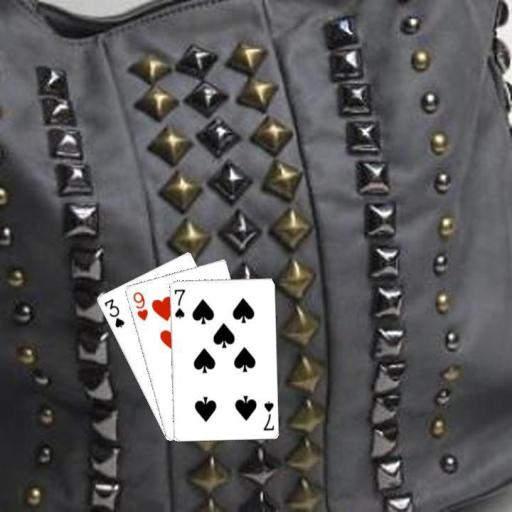card-corner: (101, 296, 126, 329), (130, 288, 150, 322), (171, 286, 186, 320), (260, 398, 275, 432)
